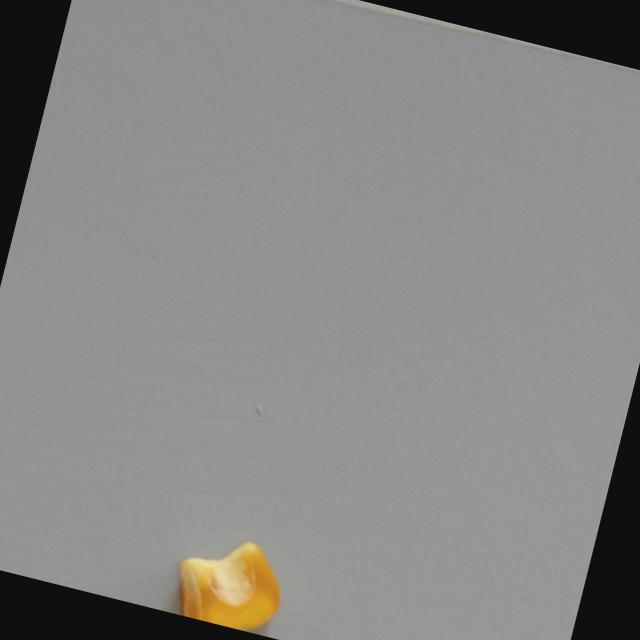pelicula: (165, 525, 294, 638)
